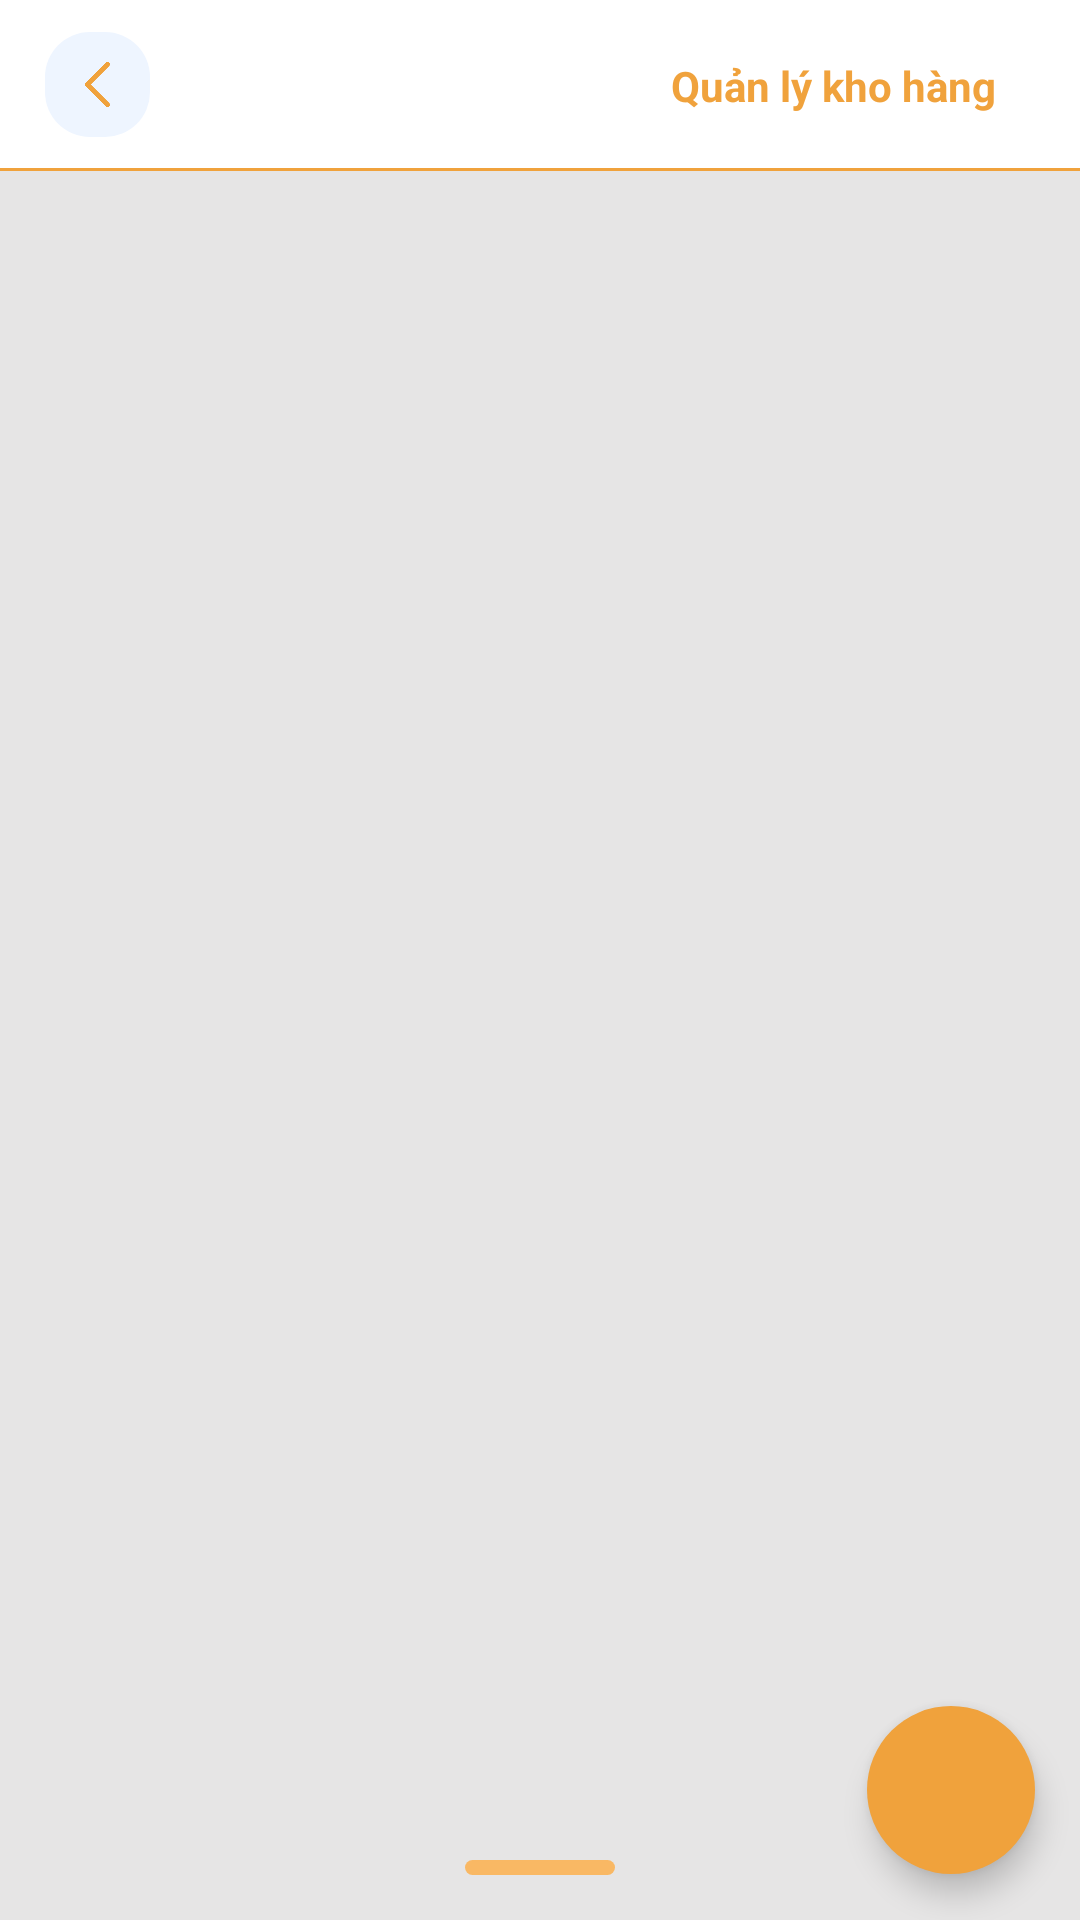

Icons on this 1080px x 1920px Android screen, each with its box as region(x1, y1, x2, y2):
back: region(85, 62, 110, 107)
